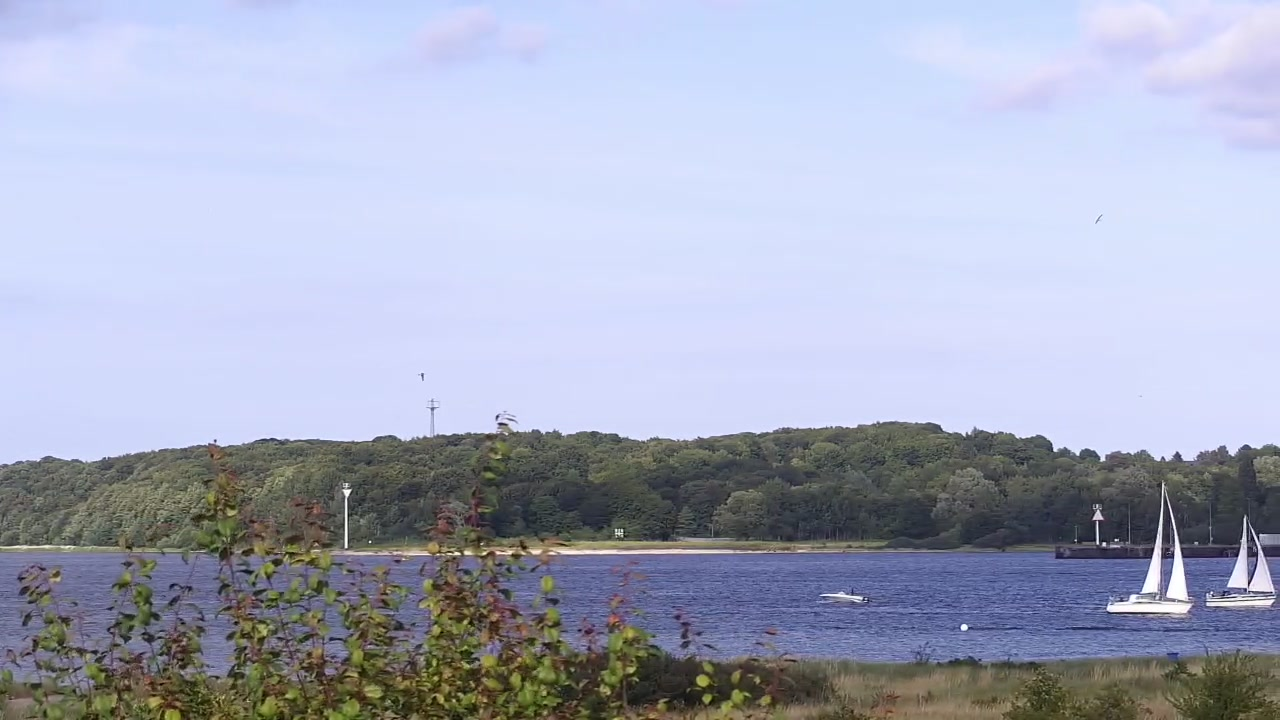sea: (1105, 480, 1196, 615), (1205, 512, 1276, 606), (818, 590, 870, 604)
